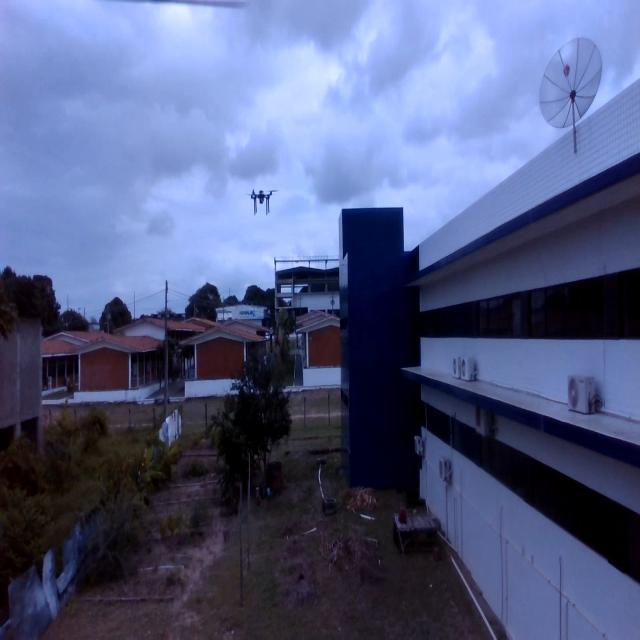-uav-: (244, 179, 283, 225)
